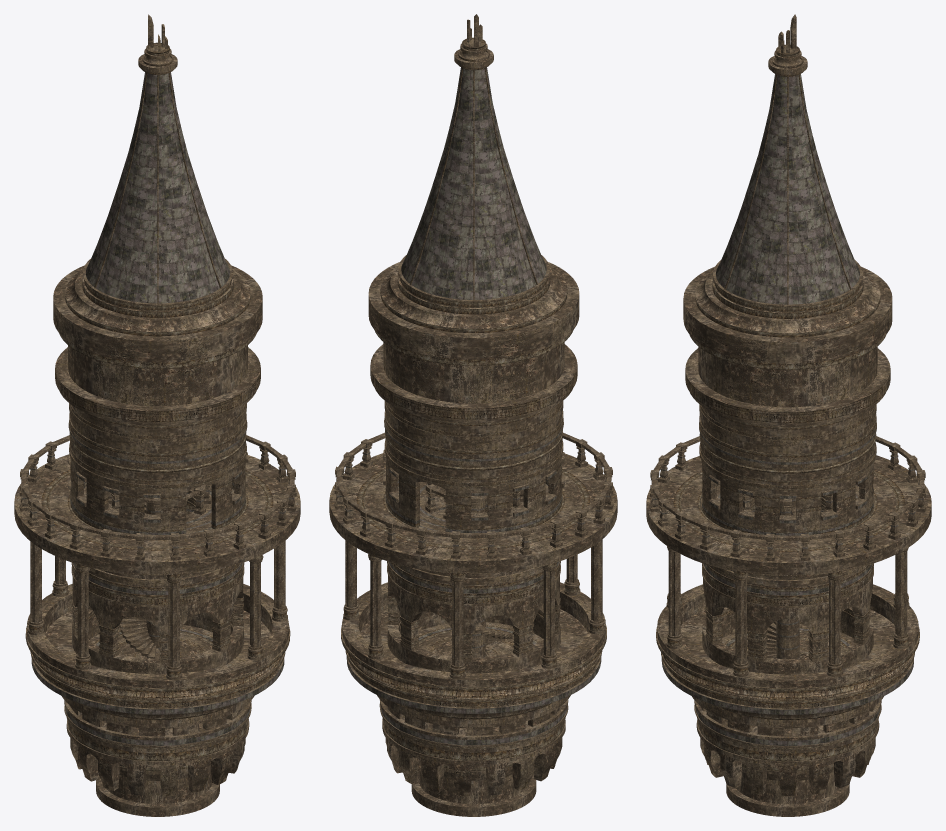
The model's file is materials_5_building_1.fbx.
3 renders of one model, left to right at view 1: azimuth 30°, elevation 25°; view 2: azimuth 150°, elevation 25°; view 3: azimuth 270°, elevation 25°, orthographic.
Visible parts, largest first — view 1: materials_5_building_1; view 2: materials_5_building_1; view 3: materials_5_building_1.
Boxes of the visible parts, <box> form: materials_5_building_1: <box>14,14,300,816</box>; materials_5_building_1: <box>329,14,617,816</box>; materials_5_building_1: <box>646,14,931,816</box>.
Bounding box in the file's own units: 1402 × 4191 × 1402.
